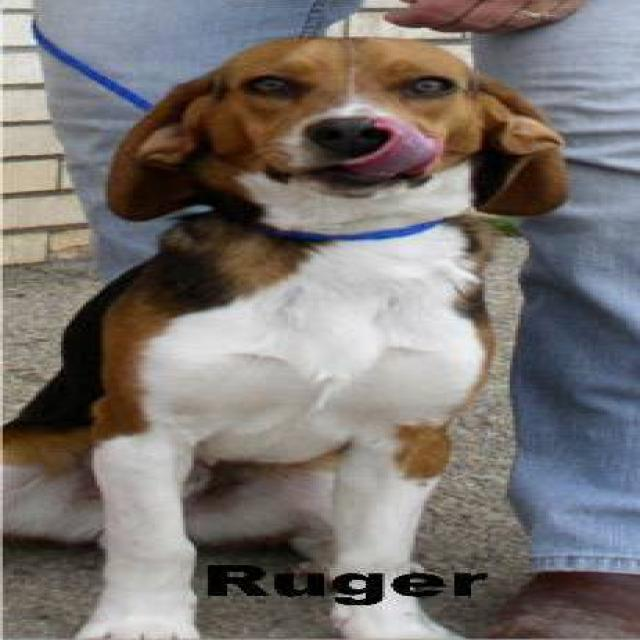dog: (0, 34, 568, 638)
